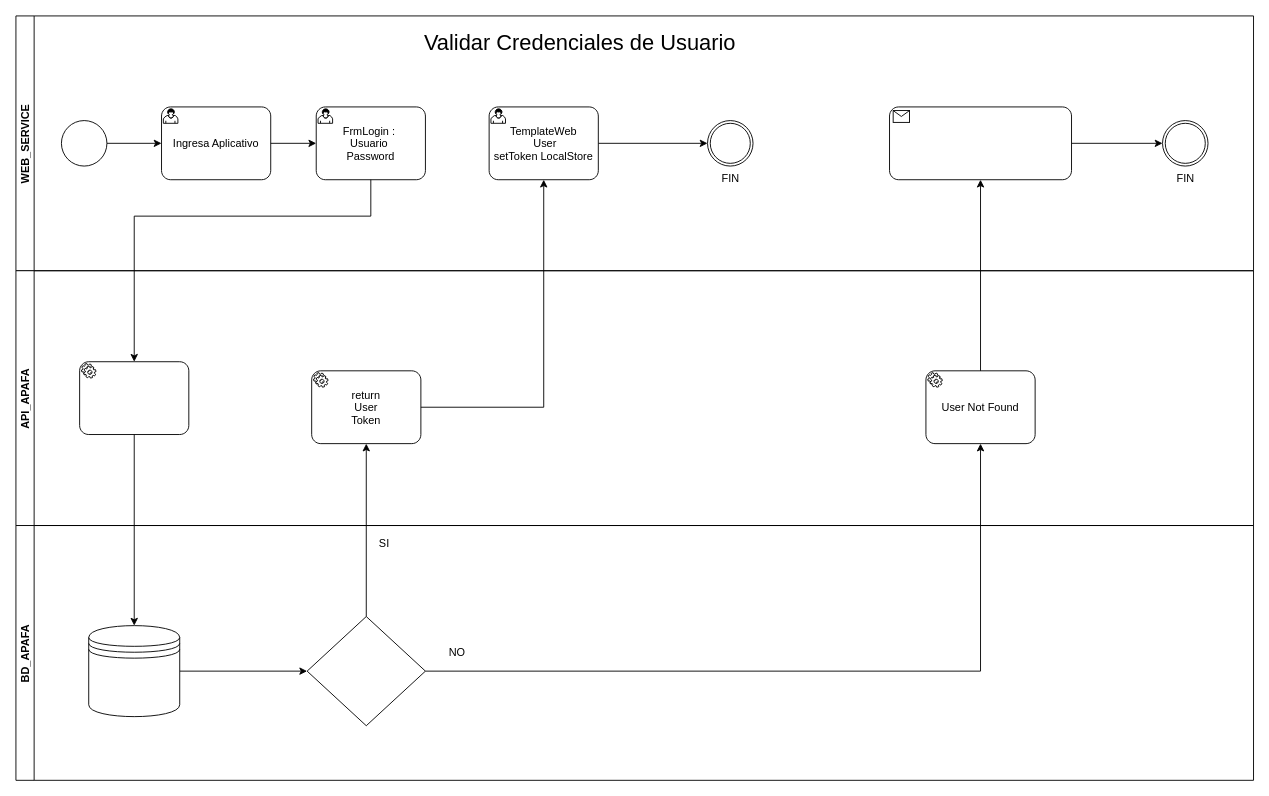
Some shapes in this 1269 by 796 pixel diagram are drawn without their labels. The shapes that lost their labels are listed below. From the top down, each one's centre as x and y in pixels, then its label:
the point at 84,143: INICIO
the point at 980,143: Usario no Existe Contraseña Incorrecta El Usuario fue Eliminado
the point at 134,398: Api Login Valida Credenciales
the point at 134,671: execute validarUsuario(usuario)
the point at 365,671: ¿ Usuario Existe ?
